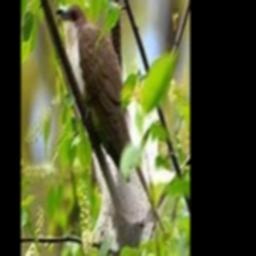Cuckoo: (56, 3, 164, 232)
